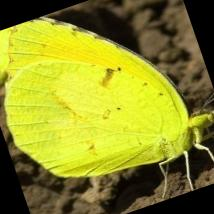butterfly: (5, 17, 214, 177)
